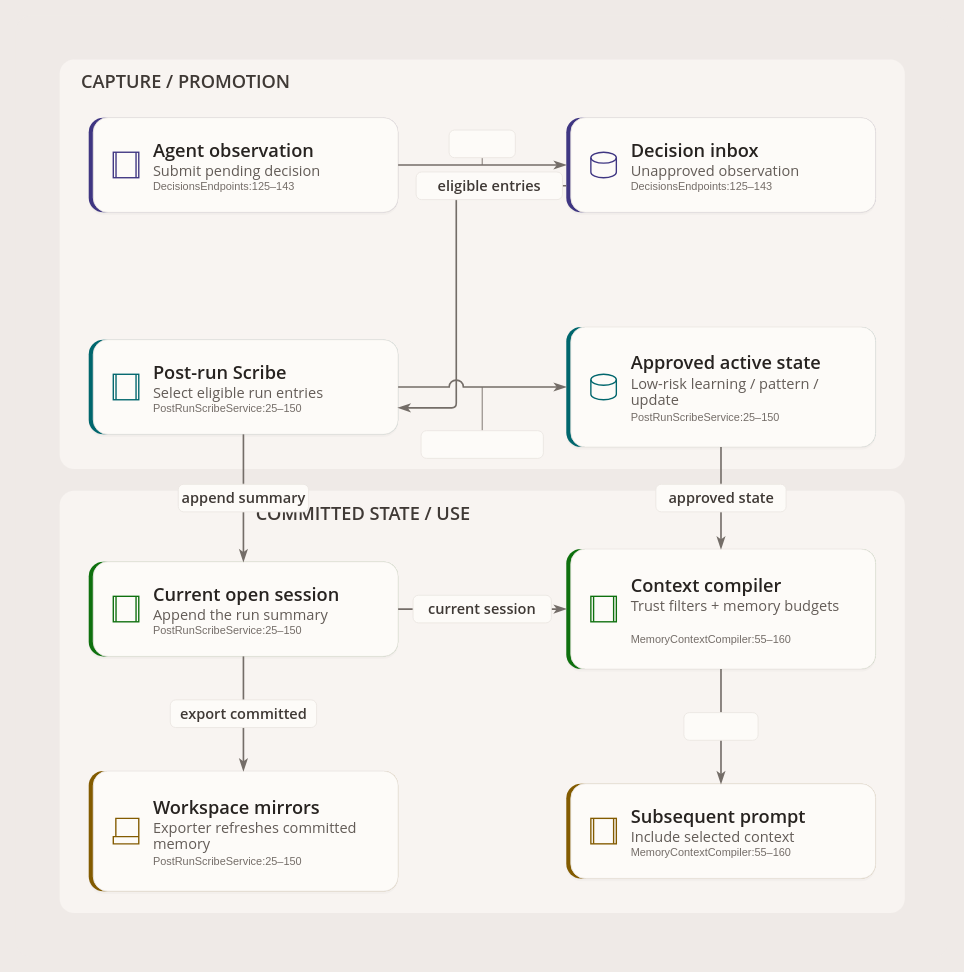
Image size: 964x972. Some labels were removed from this diagram. Here are the shapes that lost their labels. From the top down, the centre of each, then its label:
the point at 481,143: submit
the point at 481,444: low-risk only
the point at 720,726: compile
